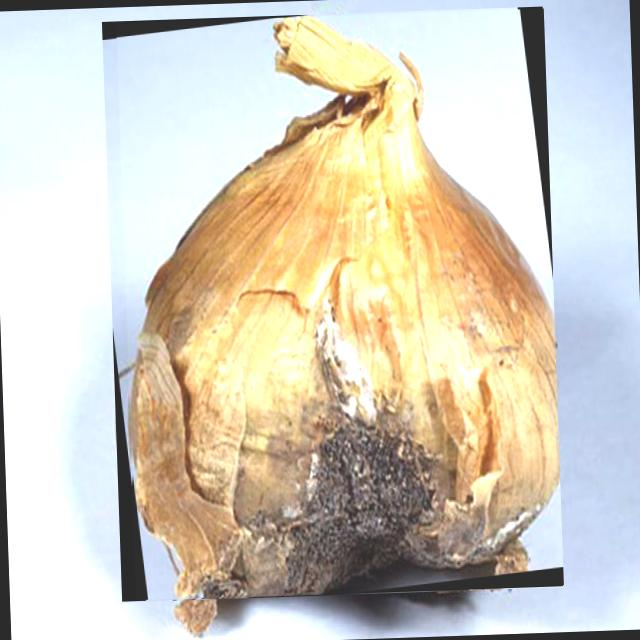rotten: (130, 17, 559, 598)
